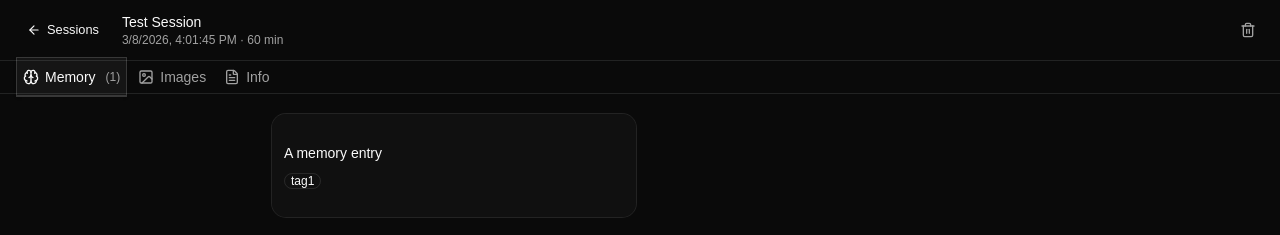
SessionDetailPage › shows empty state when no images exist
expect the text "Test Session" is shown: met, box [122, 12, 201, 32]
Click on Images tab
Click the tab "Images" at (172, 77), box [131, 57, 213, 97]
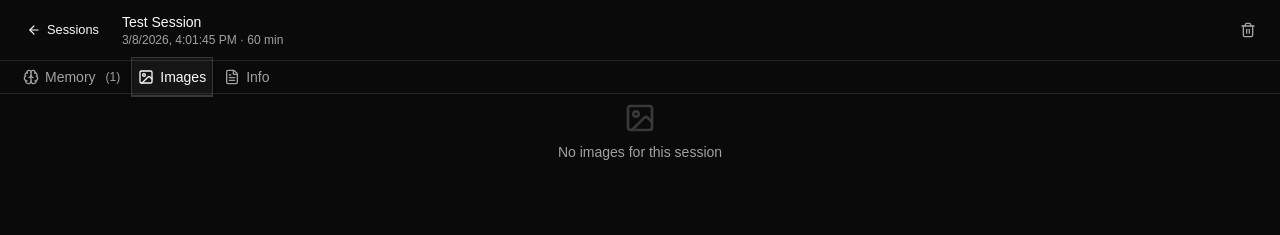
expect the text "No images for this session" is shown: met, box [558, 142, 722, 162]
